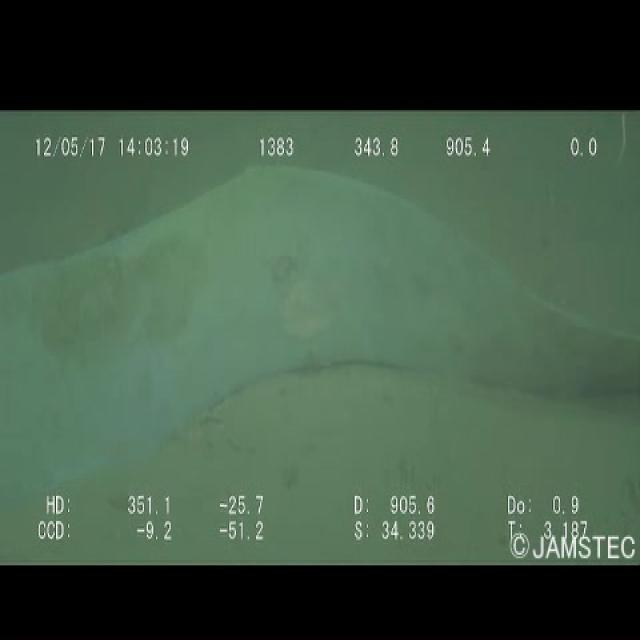plastic: (0, 156, 639, 480)
